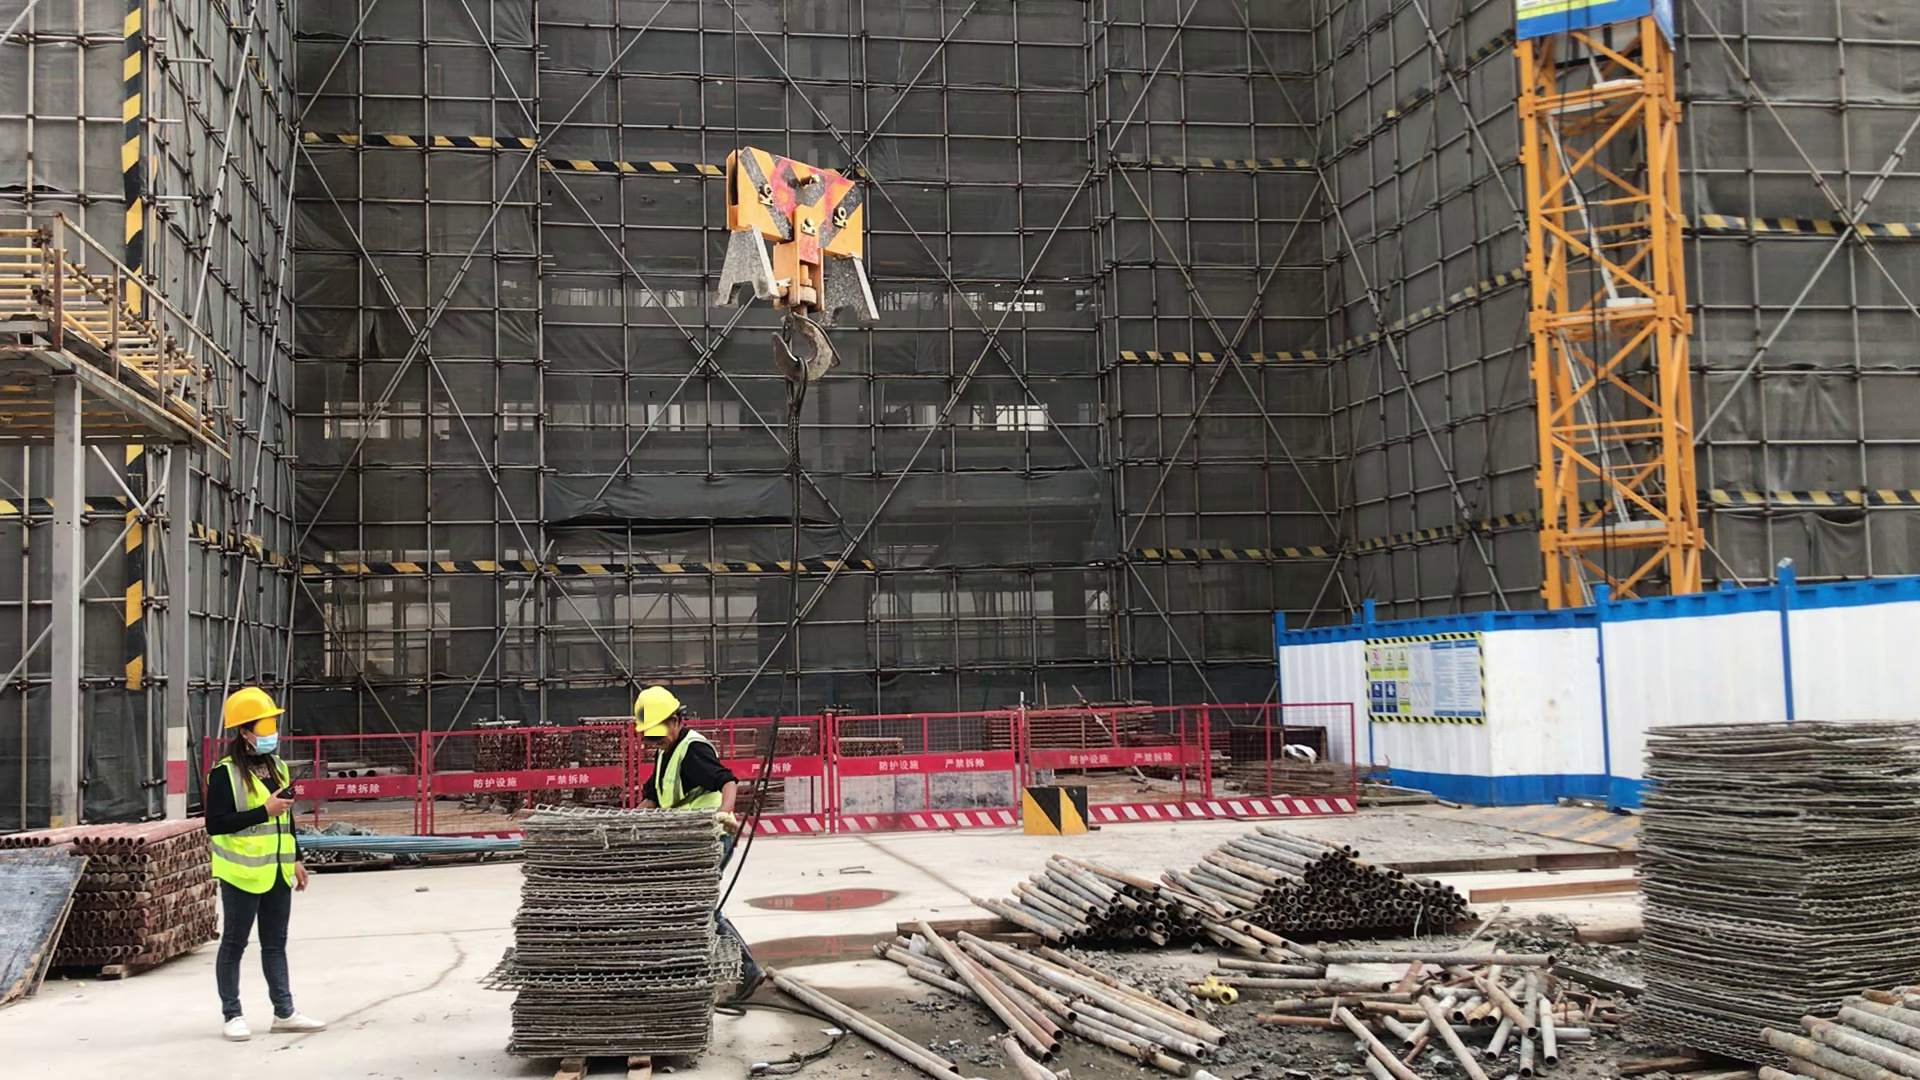fence: (1093, 705, 1358, 817), (784, 705, 1017, 834), (332, 723, 625, 809)
helmet: (221, 689, 282, 728), (632, 687, 682, 731)
hook: (718, 141, 884, 390)
person: (197, 686, 337, 1048), (632, 687, 741, 813)
scaffold: (981, 826, 1478, 943), (77, 816, 211, 971), (1734, 983, 1920, 1078)
slogan: (1364, 637, 1486, 723)
vest: (215, 753, 306, 898), (647, 735, 729, 812)
